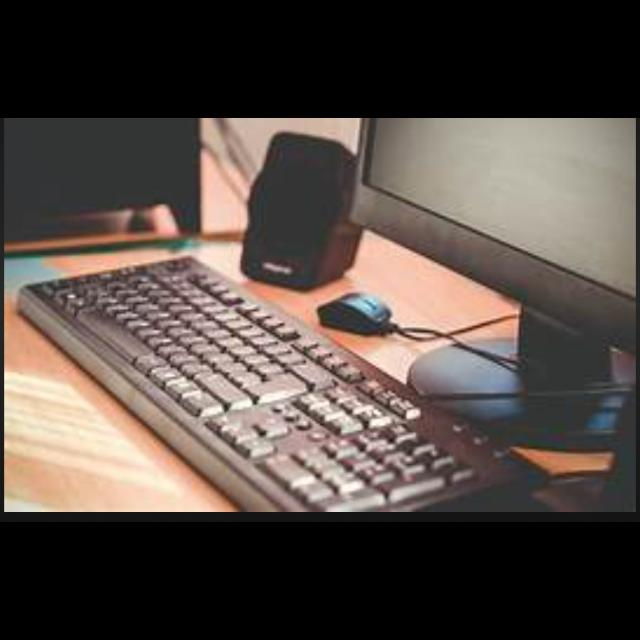Computer-Keyboard: (15, 257, 526, 514)
